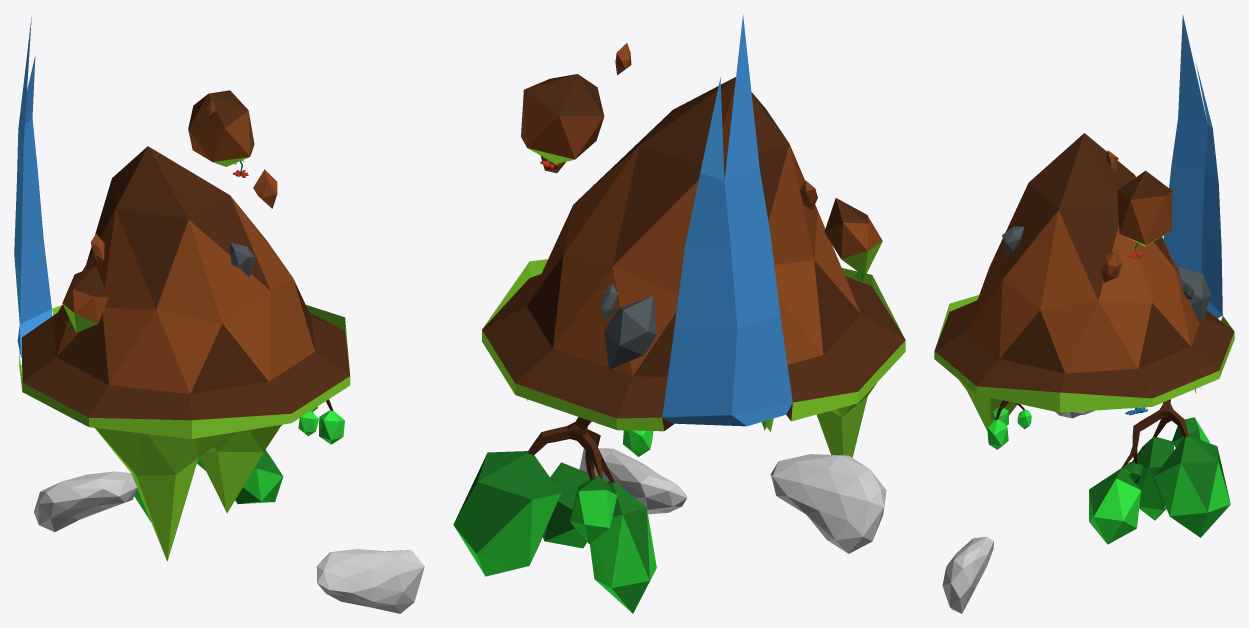
File: island4.obj
3 views of the same model, side by side, from view 1: azimuth 30°, elevation 25°; view 2: azimuth 150°, elevation 25°; view 3: azimuth 270°, elevation 25° (orthographic). The views are drawn at different scales.
Parts seen in each view (by area): view 1: Icosphere, Icosphere.016, Icosphere.013, Icosphere.003, Icosphere.030, Icosphere.049, Icosphere.012, Icosphere.017, Icosphere.050, Icosphere.001, Icosphere.004, Icosphere.014 (+7 smaller); view 2: Icosphere.030, Icosphere, Icosphere.016, Icosphere.013, Icosphere.050, Icosphere.012, Icosphere.025, Icosphere.017, Icosphere.022, Icosphere.023, Icosphere.004, Icosphere.049 (+10 smaller); view 3: Icosphere, Icosphere.016, Icosphere.030, Icosphere.013, Icosphere.012, Icosphere.017, Icosphere.022, Icosphere.049, Icosphere.004, Icosphere.020, Icosphere.025, Cube (+9 smaller).
Boxes of the visible parts, bbox=[...] form: Icosphere: bbox=[52, 196, 314, 394]; Icosphere.016: bbox=[22, 312, 349, 420]; Icosphere.013: bbox=[86, 146, 270, 308]; Icosphere.003: bbox=[95, 428, 232, 561]; Icosphere.030: bbox=[14, 17, 52, 357]; Icosphere.049: bbox=[316, 549, 424, 613]; Icosphere.012: bbox=[19, 305, 350, 438]; Icosphere.017: bbox=[56, 279, 314, 393]; Icosphere.050: bbox=[34, 471, 137, 531]; Icosphere.001: bbox=[199, 424, 282, 513]; Icosphere.004: bbox=[188, 110, 254, 161]; Icosphere.014: bbox=[188, 90, 248, 129]; Icosphere.030: bbox=[662, 15, 792, 426]; Icosphere: bbox=[527, 144, 860, 375]; Icosphere.016: bbox=[482, 274, 905, 418]; Icosphere.013: bbox=[577, 77, 789, 265]; Icosphere.050: bbox=[770, 454, 886, 553]; Icosphere.012: bbox=[482, 259, 905, 431]; Icosphere.025: bbox=[454, 451, 560, 557]; Icosphere.017: bbox=[526, 255, 860, 376]; Icosphere.022: bbox=[453, 483, 560, 576]; Icosphere.023: bbox=[590, 510, 656, 613]; Icosphere.004: bbox=[521, 90, 603, 159]; Icosphere.049: bbox=[579, 448, 686, 514]; Icosphere: bbox=[966, 184, 1199, 373]; Icosphere.016: bbox=[934, 300, 1234, 398]; Icosphere.030: bbox=[1163, 14, 1222, 318]; Icosphere.013: bbox=[1003, 133, 1174, 300]; Icosphere.012: bbox=[934, 295, 1234, 412]; Icosphere.017: bbox=[999, 303, 1190, 373]; Icosphere.022: bbox=[1154, 462, 1230, 537]; Icosphere.049: bbox=[942, 537, 993, 613]; Icosphere.004: bbox=[1117, 191, 1172, 244]; Icosphere.020: bbox=[1089, 478, 1140, 544]; Icosphere.025: bbox=[1155, 436, 1229, 511]; Cube: bbox=[1121, 399, 1188, 468].
Bounding box in the file's own units: 418 × 710 × 391.
